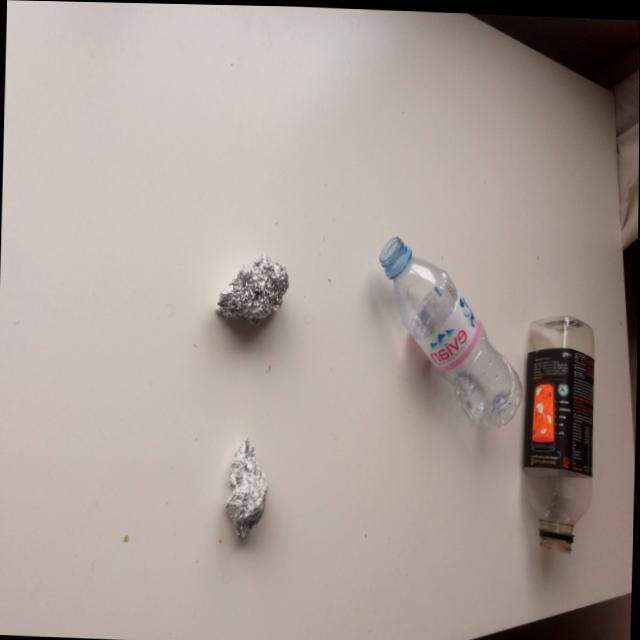Can-Metal: (204, 239, 299, 350), (213, 426, 278, 557)
Plastic: (367, 221, 528, 445), (515, 285, 607, 570)
